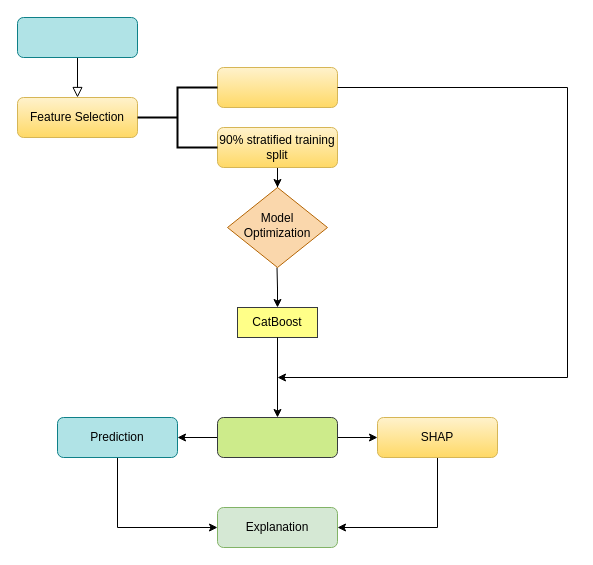
Image size: 593x565. Some labels were removed from this diagram. Here are the shapes that lost their labels. From the top down, the centre of each, then its label:
the point at 77,37: CAD Dataset
the point at 277,87: 10% stratified testing split
the point at 277,437: Optimal ML model
